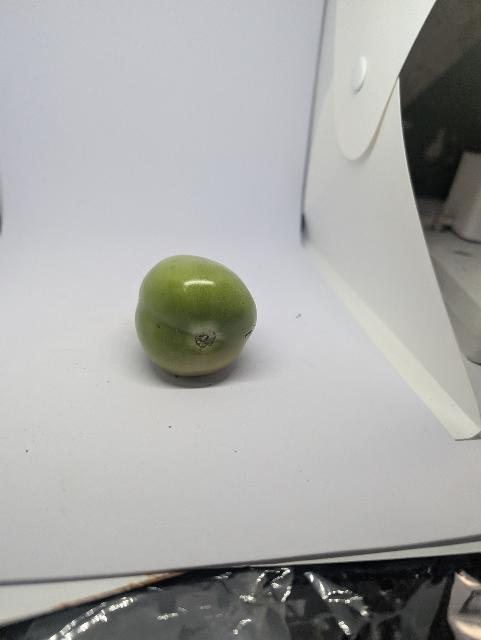green: (118, 238, 279, 398)
